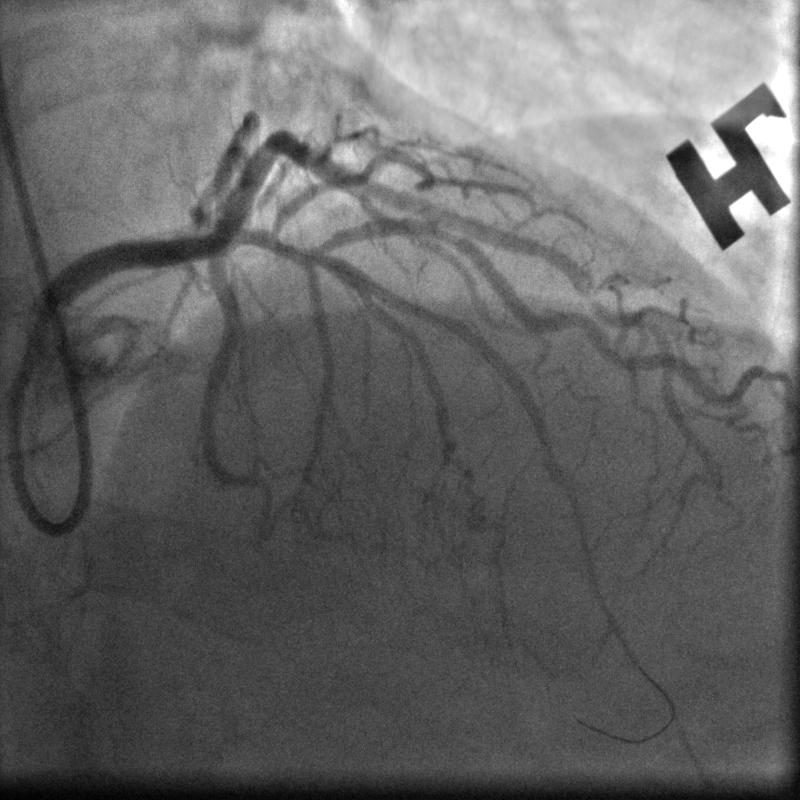Stenosis: (429, 215, 466, 250)
